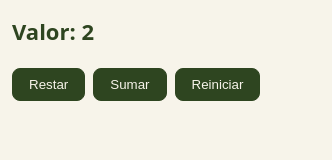
Test: Contador › Reiniciar vuelve al valor inicial
What coordinates should you click on to do the following:
click the button "Sumar"
I would click on:
 (130, 84)
Its box is [93,68,167,101].
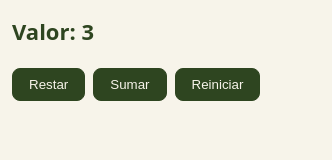
What coordinates should you click on to do the following:
click the button "Sumar"
I would click on:
 (130, 84)
Its box is [93,68,167,101].
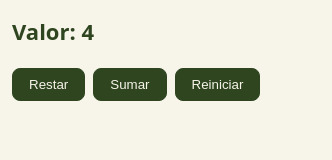
What coordinates should you click on to do the following:
click the button "Reiniciar"
I would click on:
 (217, 84)
Its box is [174,68,260,101].
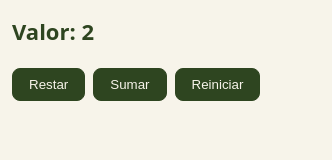
expect the text "Valor: 2" is shown: met, box [12,16,94,46]
